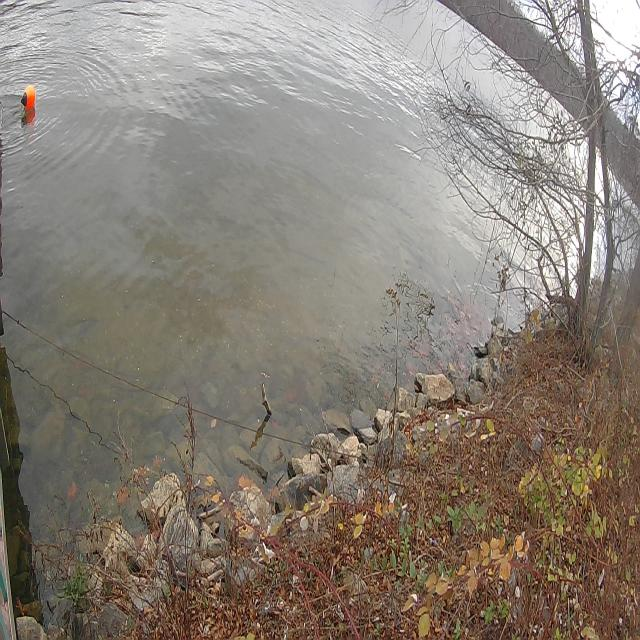Buoy: (21, 81, 39, 118)
